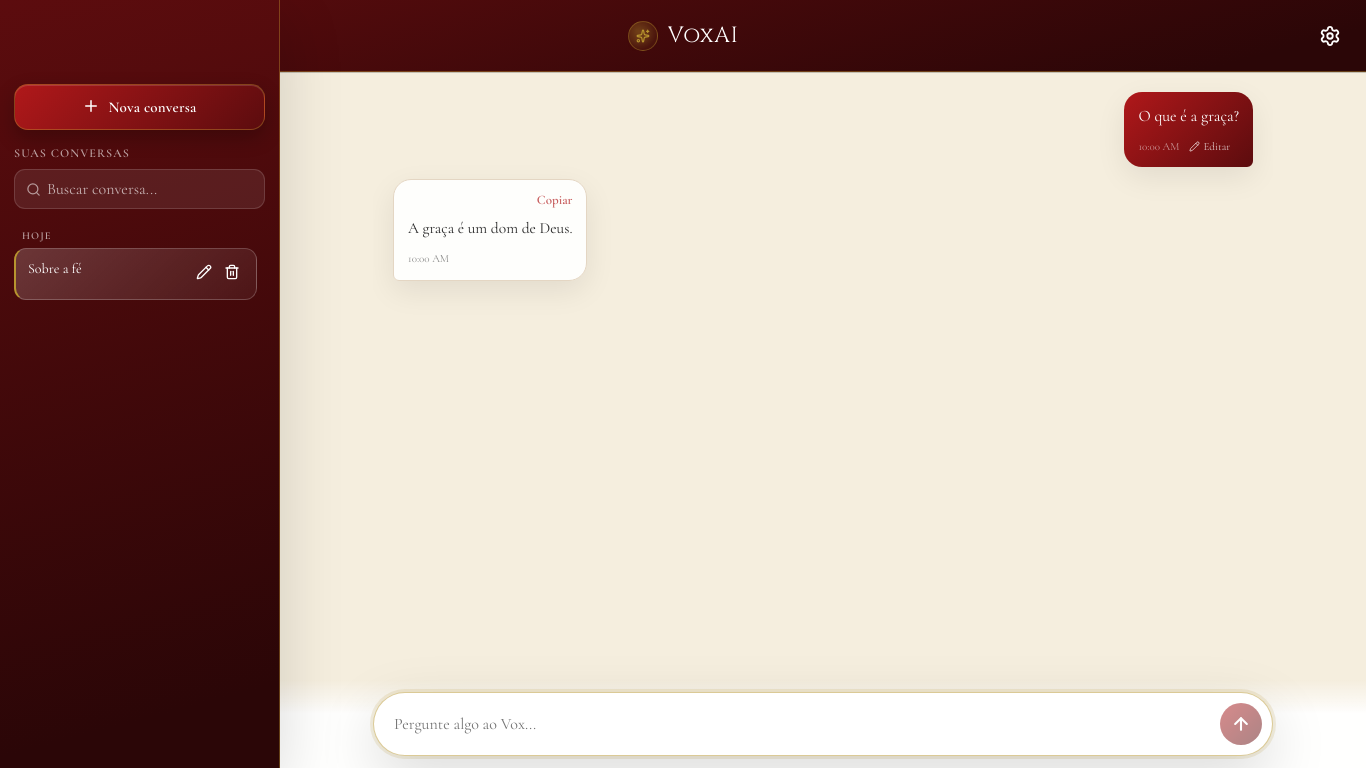
it: Vox › perfis de resposta › reverts the selection when the profile switch fails
Expected: the text "O que é a graça?" is shown, [1138,104,1239,130]
Click the button named "Configurações do Vox" at (1330, 36), box [1310,16,1350,56]
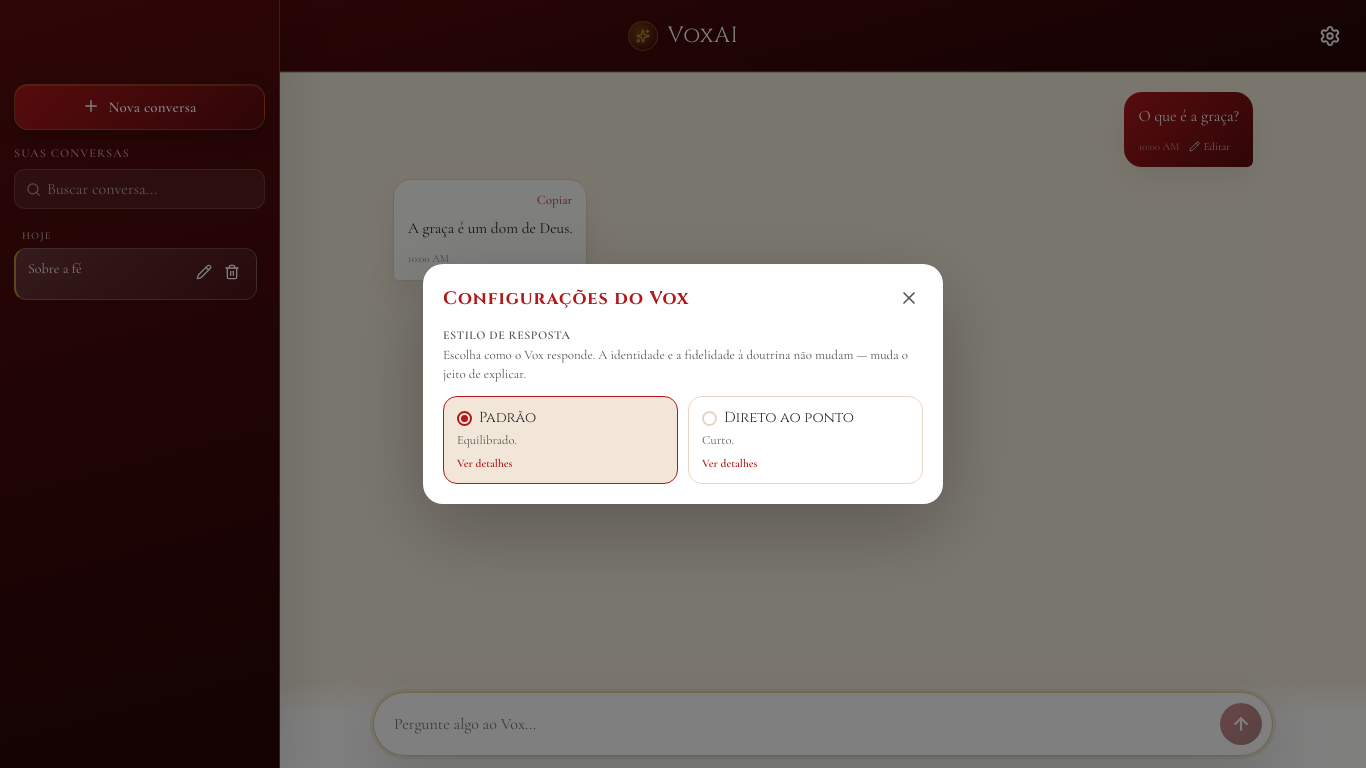
Click the text "Direto ao ponto" at (789, 418), box [724,410,854,427]
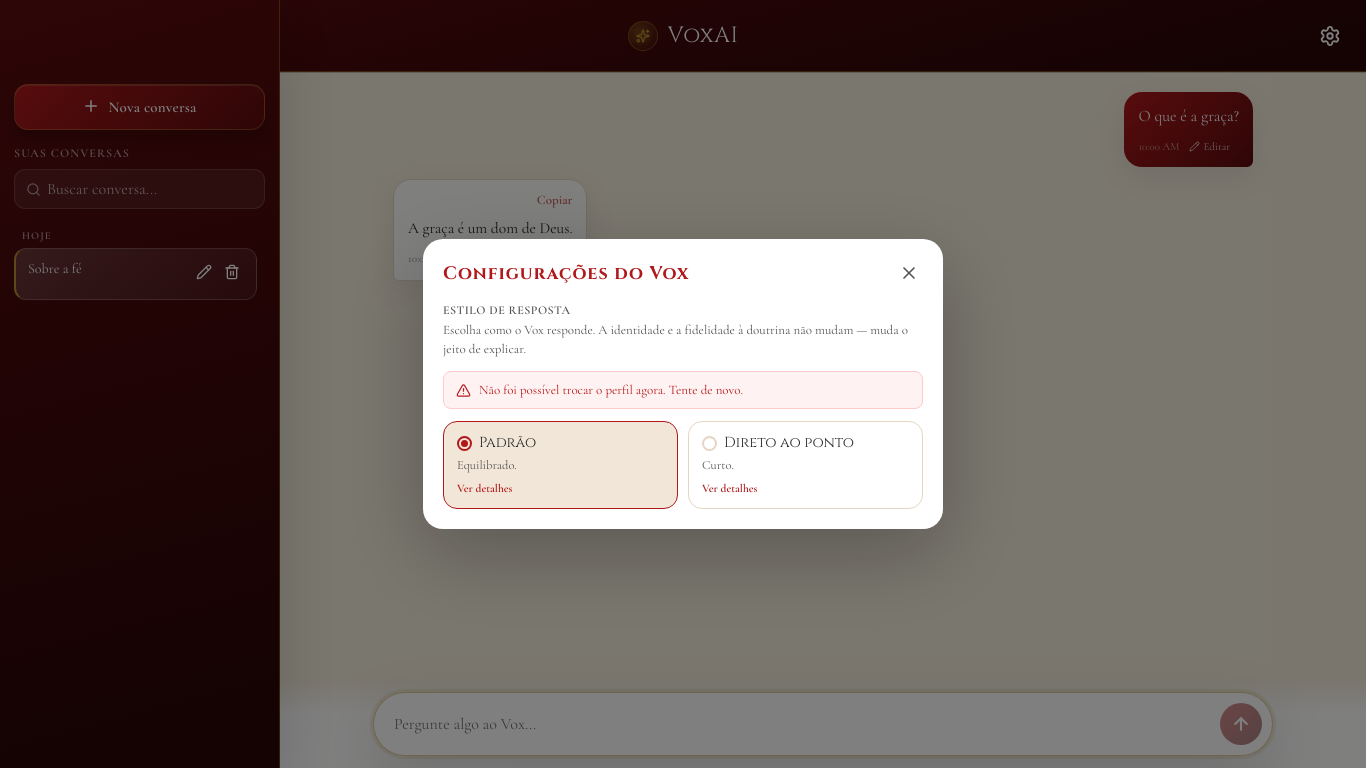
Result: the message shows "Não foi possível trocar" at [479,382,743,398]
